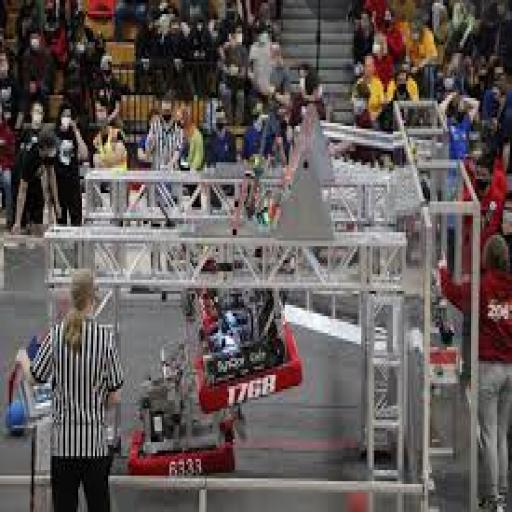robot: (184, 151, 306, 409), (127, 341, 242, 487), (5, 311, 110, 428)
